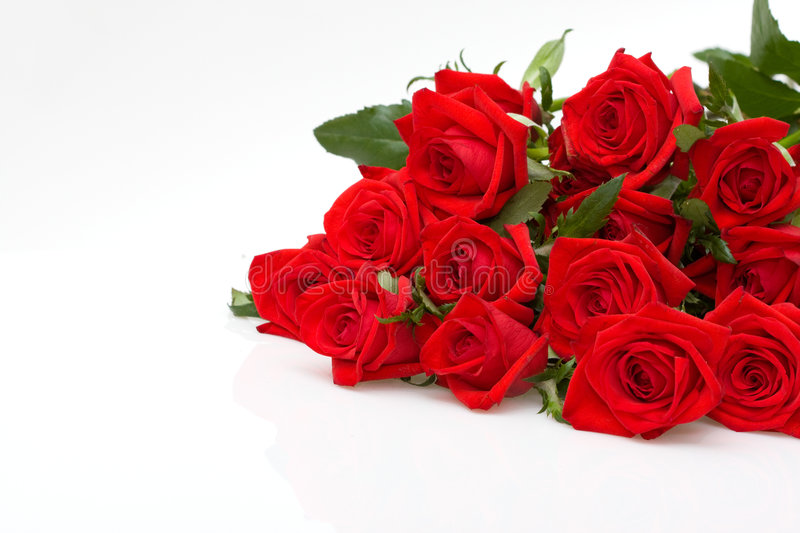RedRose: (549, 226, 660, 352), (423, 299, 554, 404), (571, 67, 695, 164), (399, 103, 506, 215), (318, 159, 422, 269), (303, 274, 406, 382), (593, 318, 704, 418), (249, 242, 348, 344), (417, 225, 538, 296), (696, 217, 793, 304), (721, 314, 800, 415), (707, 136, 791, 224)
